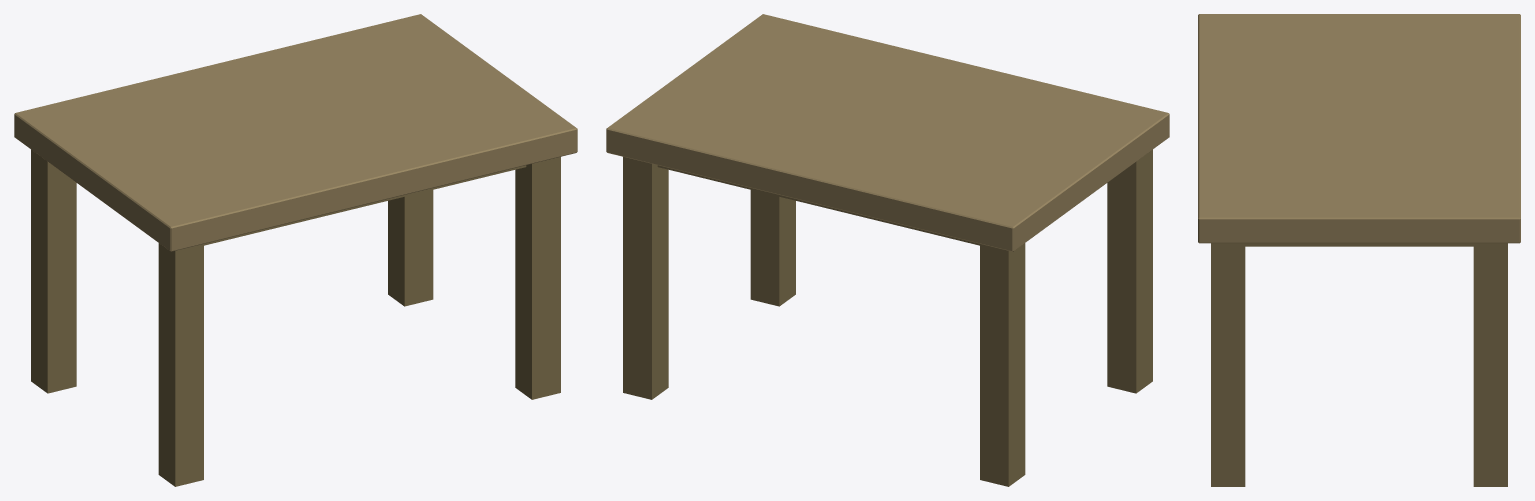
Rendered from table.glb.
3 renders of one model, left to right at view 1: azimuth 30°, elevation 25°; view 2: azimuth 150°, elevation 25°; view 3: azimuth 270°, elevation 25°, orthographic. The views are drawn at different scales.
Visible parts, largest first — view 1: Broad dining tabletop; view 2: Broad dining tabletop; view 3: Broad dining tabletop.
Boxes of the visible parts, x1=… form: Broad dining tabletop: x1=14, y1=14, x2=577, y2=486; Broad dining tabletop: x1=606, y1=14, x2=1169, y2=486; Broad dining tabletop: x1=1198, y1=14, x2=1520, y2=486.
Bounding box in the file's own units: 1.2 × 0.75 × 0.8.
